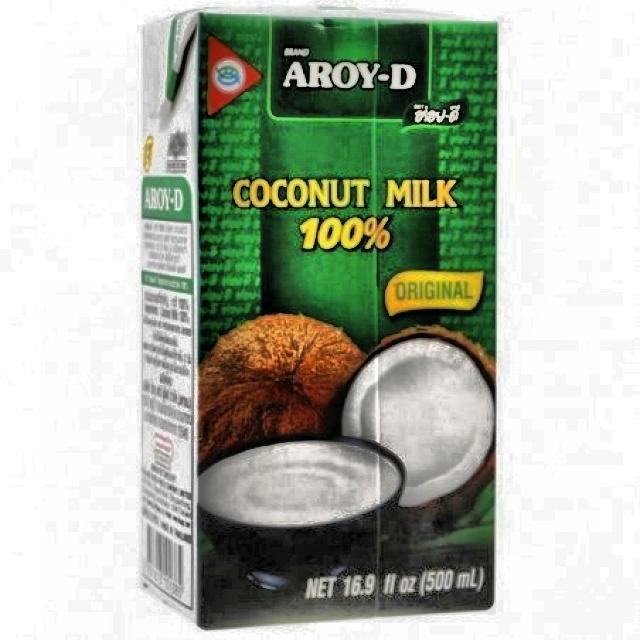cardboard: (138, 6, 498, 628)
